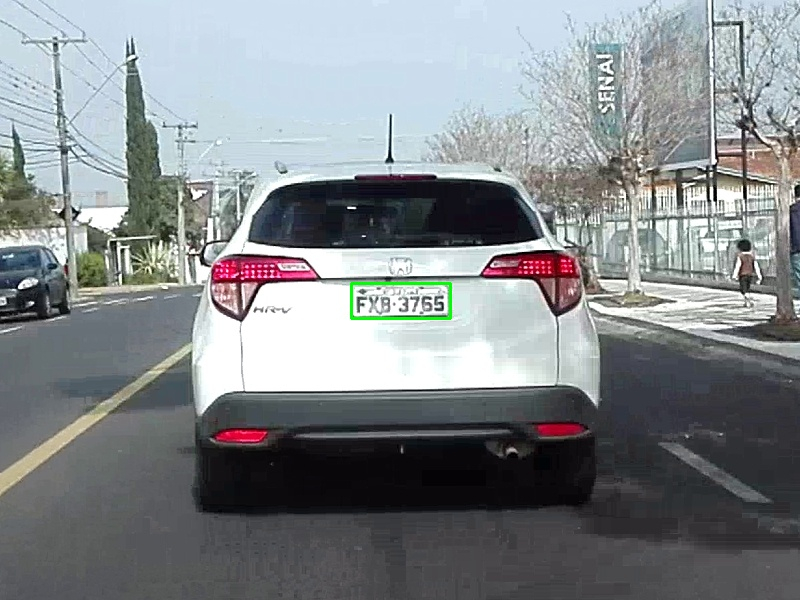placa: (351, 283, 450, 318)
